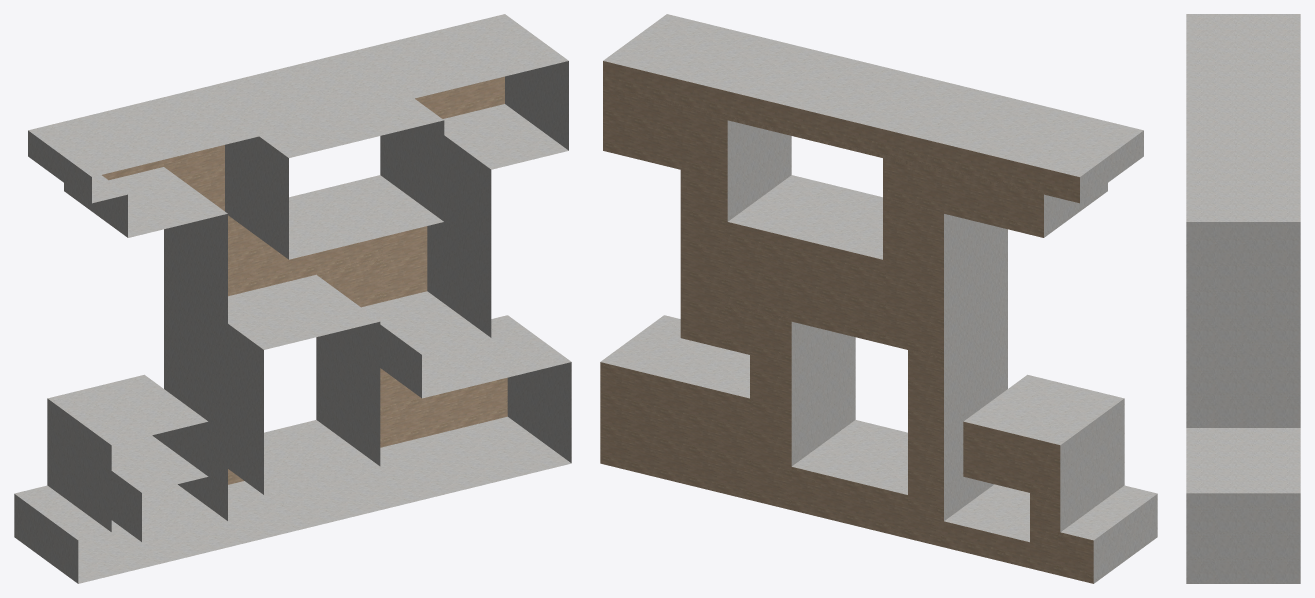
3 renders of one model, left to right at view 1: azimuth 30°, elevation 25°; view 2: azimuth 150°, elevation 25°; view 3: azimuth 270°, elevation 25°, orthographic. The views are drawn at different scales.
Visible parts, largest first — view 1: walls, floors; view 2: floors, walls; view 3: walls.
Boxes of the visible parts, bbox=[...] form: walls: bbox=[14, 14, 571, 583]; floors: bbox=[102, 76, 507, 484]; floors: bbox=[600, 61, 1093, 583]; walls: bbox=[600, 14, 1157, 583]; walls: bbox=[1186, 14, 1300, 583].
Size of the model in its own units: 0.6953 by 0.543 by 0.1562.
2 materials, 2 textured.
